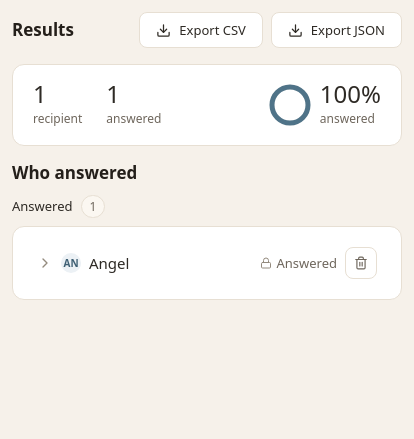
it: QuestionnaireResults › an analyzed PRIVATE send links to Memory, and never shows the insight excerpt inline (§21.5)
Click the button with aria-label "Expand " at [145, 263], box [37, 253, 252, 273]
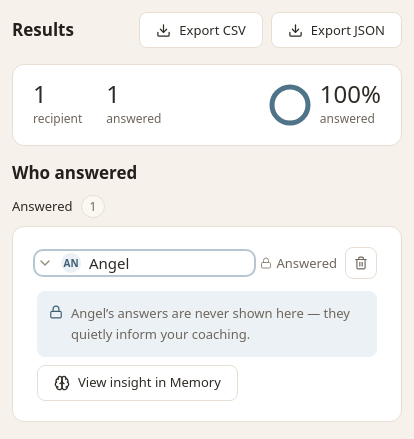
Result: the button "View insight in Memory" is shown at [37, 365, 238, 401]
